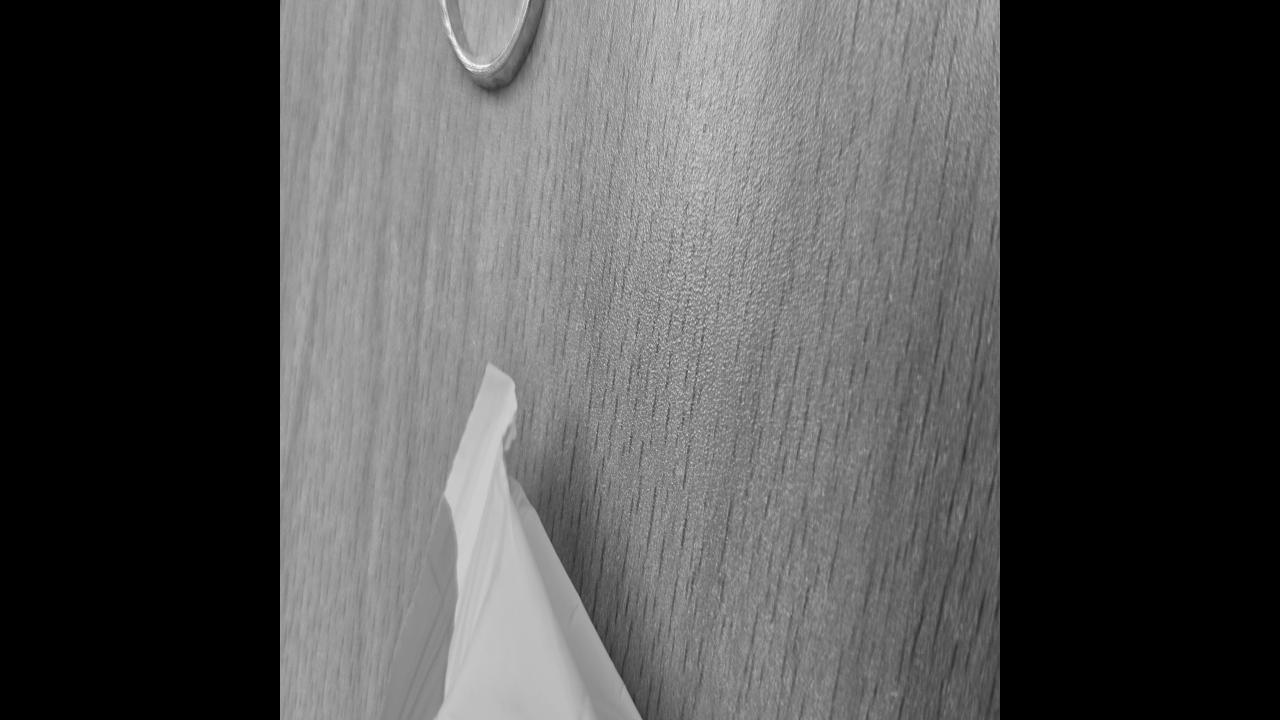ring: (433, 0, 552, 94)
